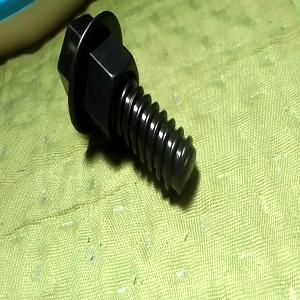parafuso: (57, 11, 197, 198)
